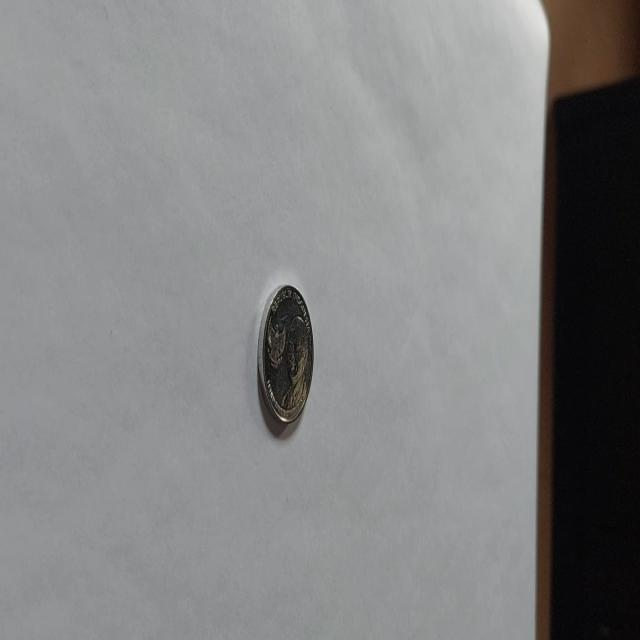lima ratus rupiah: (256, 283, 314, 427)
